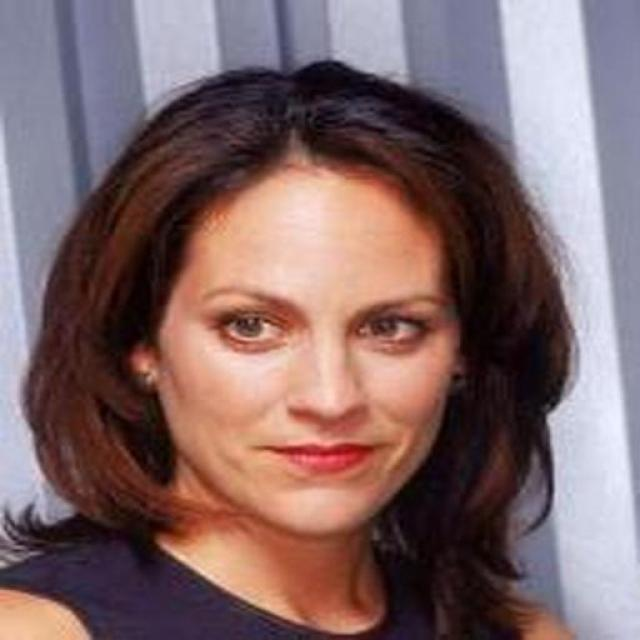bareface: (104, 84, 516, 543)
